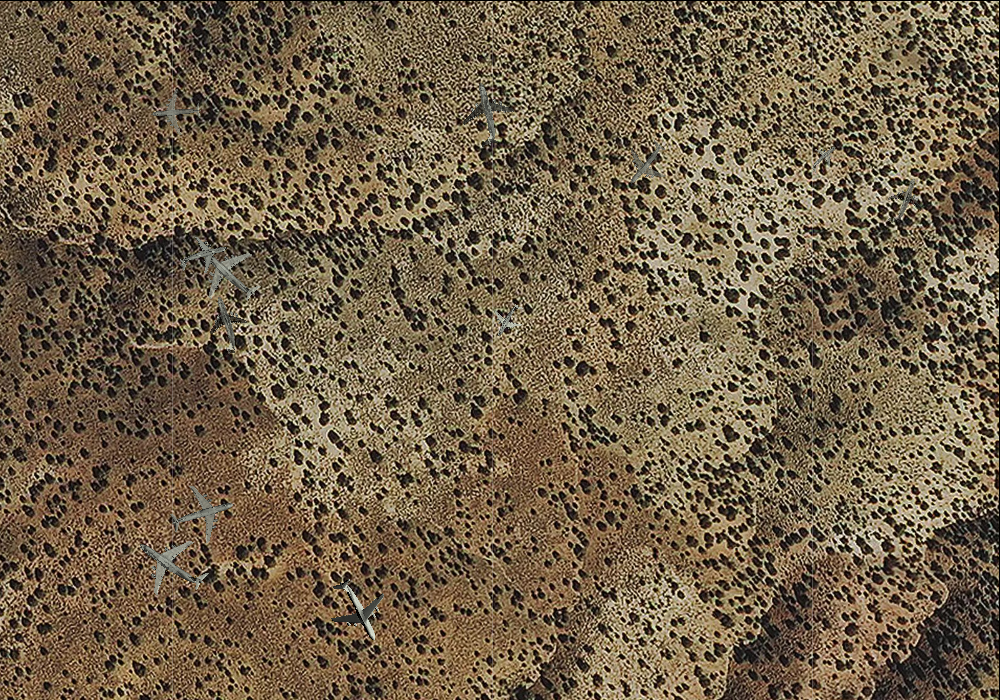plane: (120, 514, 222, 614), (180, 225, 275, 320), (313, 566, 401, 655), (162, 475, 241, 552), (449, 75, 522, 152), (611, 128, 680, 197), (191, 289, 257, 361), (875, 170, 932, 230), (173, 228, 232, 284), (149, 87, 202, 136), (484, 295, 532, 345), (802, 136, 846, 179)
